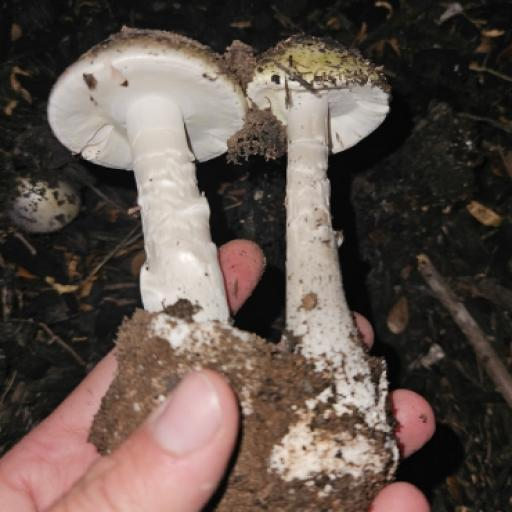mushroom: (32, 22, 252, 325), (246, 34, 394, 470)
